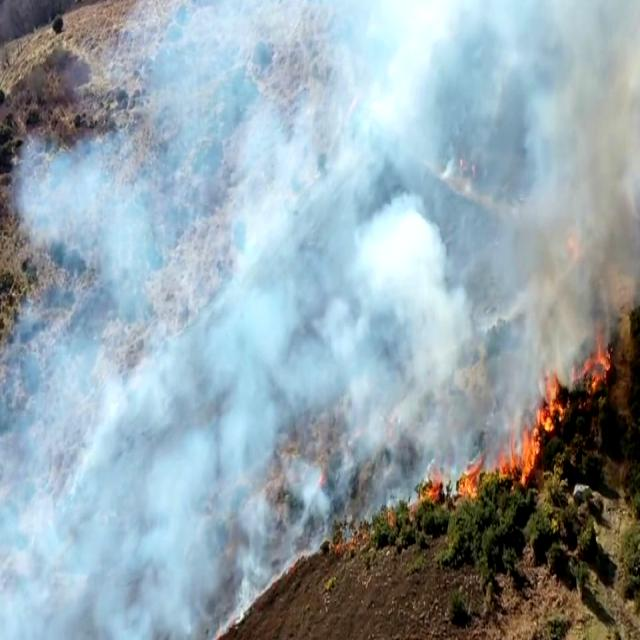fire: (491, 388, 562, 501)
smoke: (35, 112, 180, 640), (211, 241, 447, 522), (0, 391, 109, 640), (245, 0, 473, 110)
